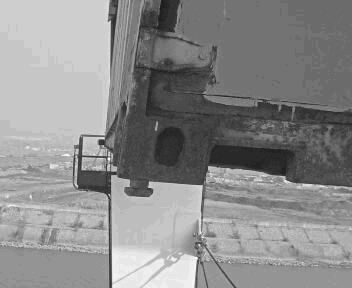twist_lock_1: (115, 175, 158, 205)
